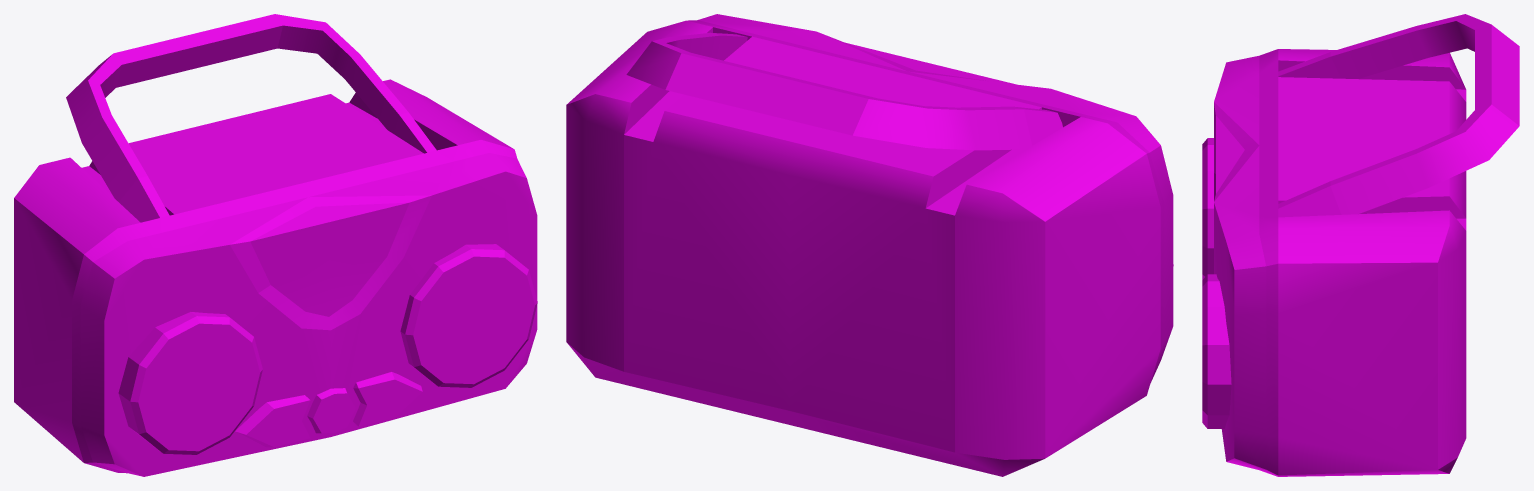
The model's file is CdPlayer_Model.fbx.
The picture shows the model from 3 angles, left to right: view 1: azimuth 30°, elevation 25°; view 2: azimuth 150°, elevation 25°; view 3: azimuth 270°, elevation 25°; orthographic projection. The views are drawn at different scales.
Parts seen in each view (by area): view 1: CDPlayer; view 2: CDPlayer; view 3: CDPlayer.
Part boxes in pixels (x1,y1,x2,y2): CDPlayer: (14, 14, 537, 476); CDPlayer: (566, 14, 1173, 476); CDPlayer: (1202, 14, 1519, 476).
Bounding box in the file's own units: 257 × 172 × 153.
